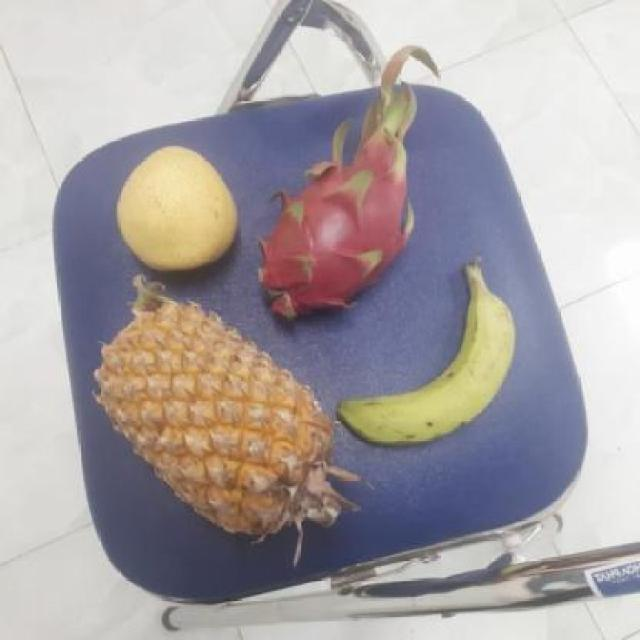banana: (338, 264, 520, 448)
dragon fruit: (255, 145, 417, 320)
pear: (116, 146, 247, 272)
pineapple: (108, 296, 348, 533)
